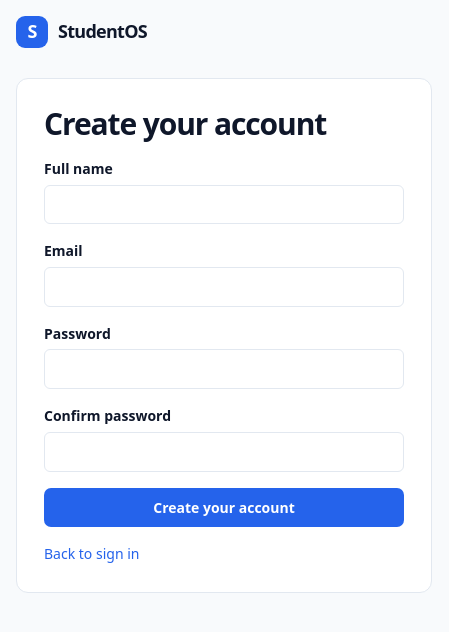
Test case: validates password confirmation on registration
Type "Taylor Jordan" into the field labelled "Full name" at (224, 205), box x1=44 y1=185 x2=404 y2=224
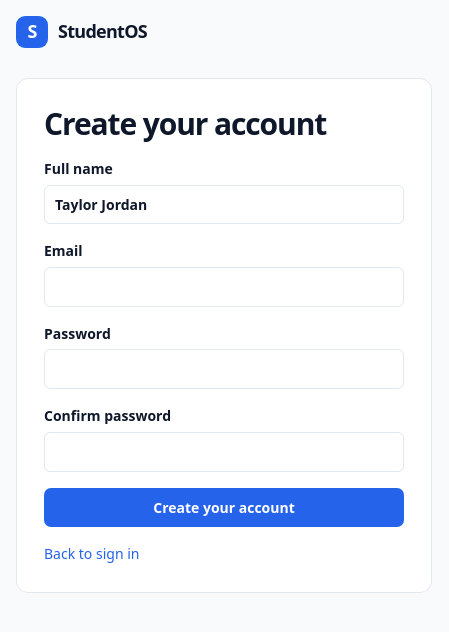
Type "taylor@example.com" into the field labelled "Email" at (224, 287), box x1=44 y1=267 x2=404 y2=307
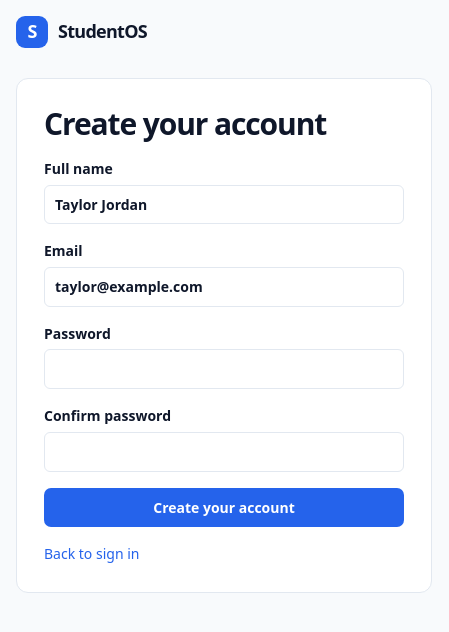
Type "long-password" into the password field labelled "Password" at (224, 369), box x1=44 y1=349 x2=404 y2=389
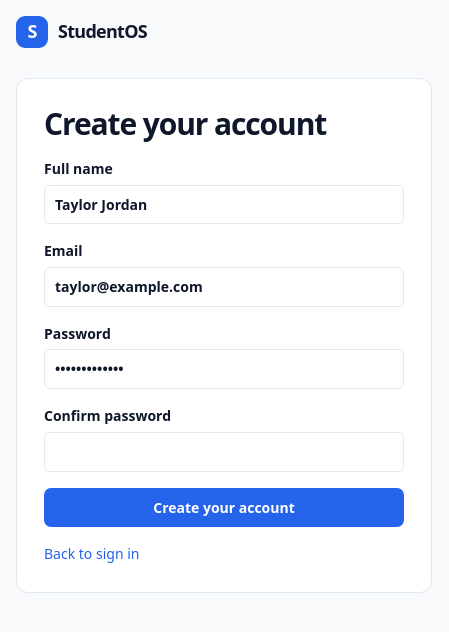
Type "other-password" into the password field labelled "Confirm password" at (224, 452), box x1=44 y1=432 x2=404 y2=472
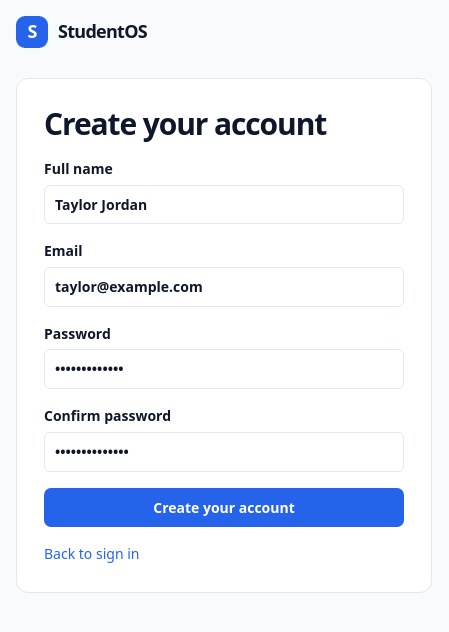
Click the button "Create your account" at (224, 507), box x1=44 y1=488 x2=404 y2=527
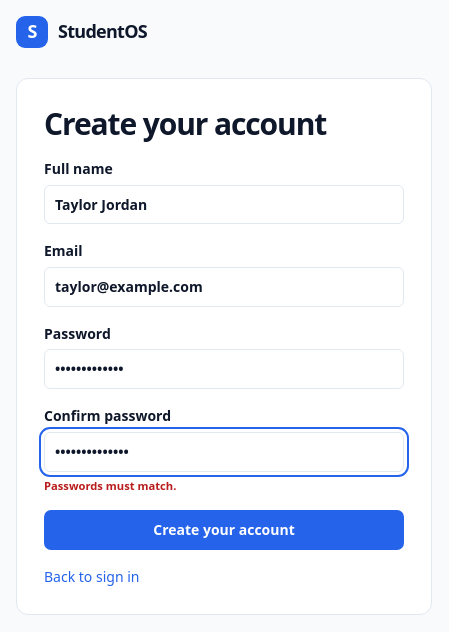
Expected: the text "Passwords must match." is shown, x1=44 y1=478 x2=176 y2=492
